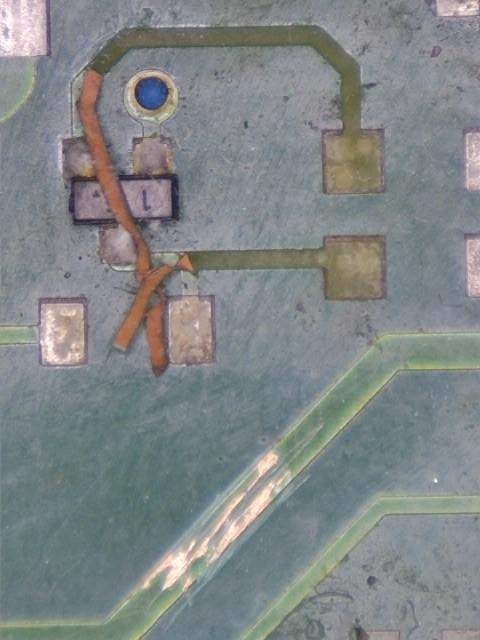pcb_defect: (76, 25, 386, 379), (112, 236, 387, 351), (210, 483, 274, 564), (143, 538, 208, 590), (215, 494, 245, 532), (248, 454, 278, 491), (183, 580, 192, 592)
